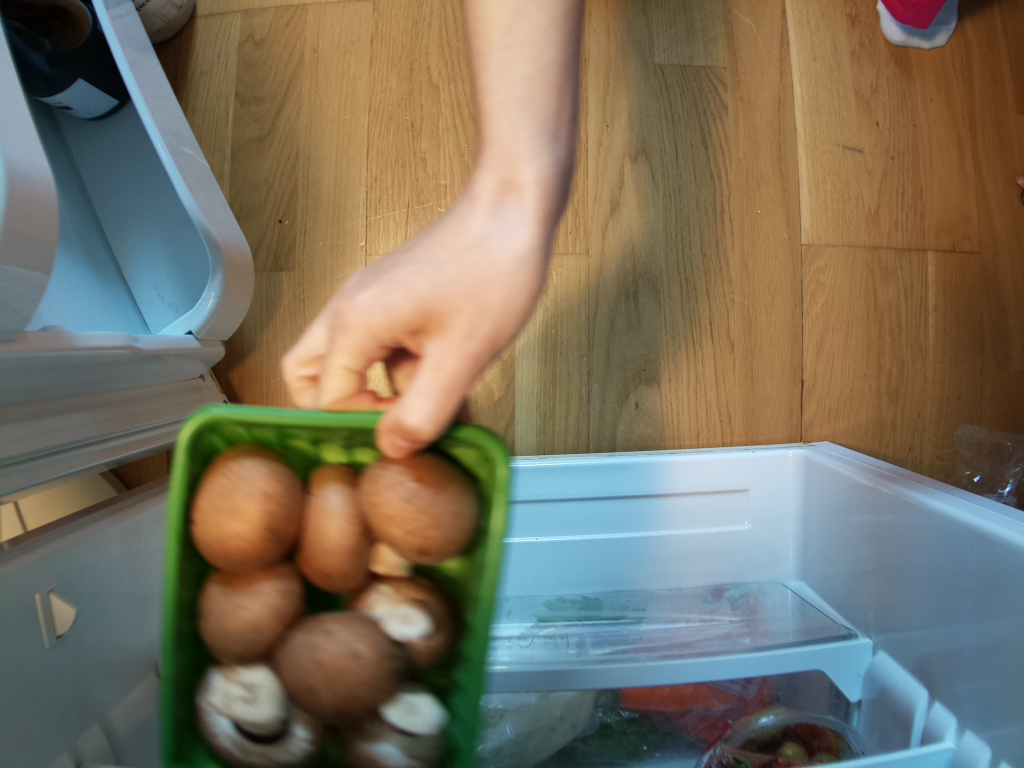mushrooms: (162, 400, 520, 768)
